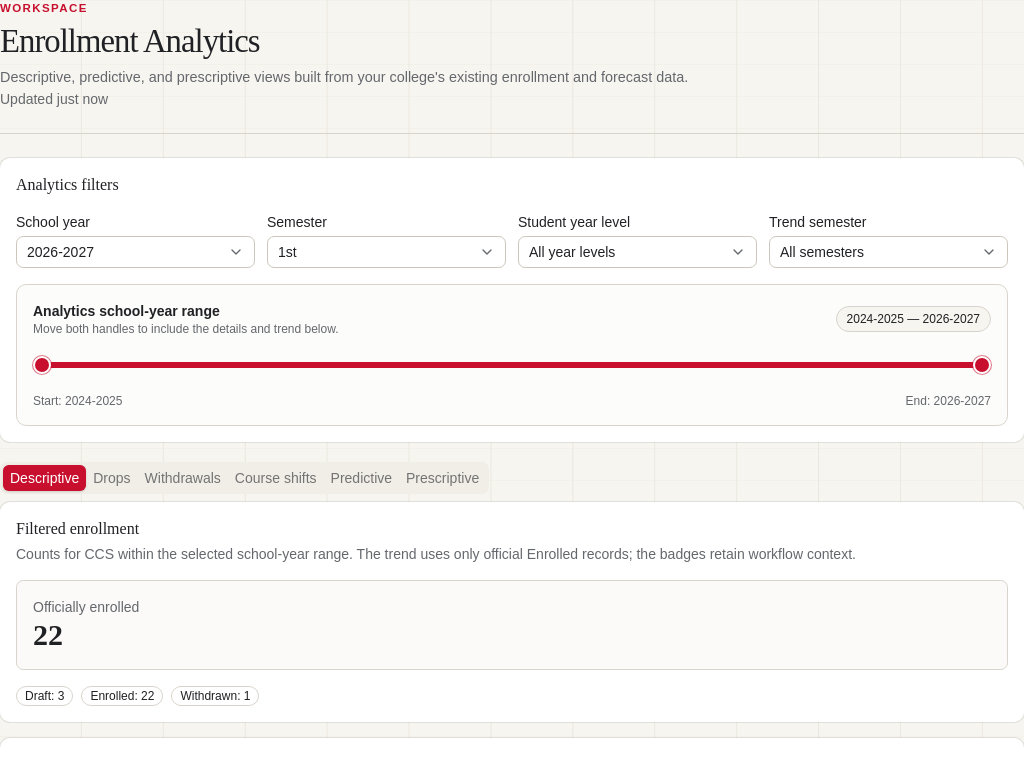
Test: AnalyticsDashboardWorkspace › shows rule-based recommendations on the Prescriptive tab
Expected: the text "Enrolled: 22" is shown, [81,686,164,706]
Step 1. Click the tab "Prescriptive" → (443, 478), box [399,465,486,491]
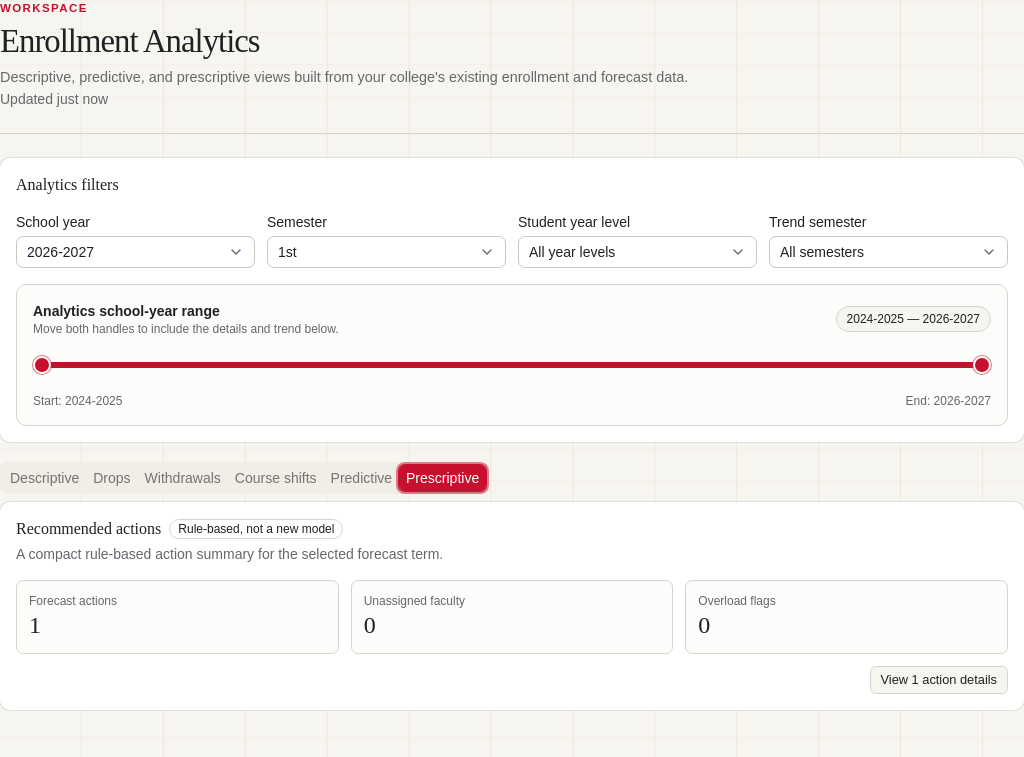
Step 2. Click the button "View 1 action details" → (939, 680), box [870,666,1008,694]
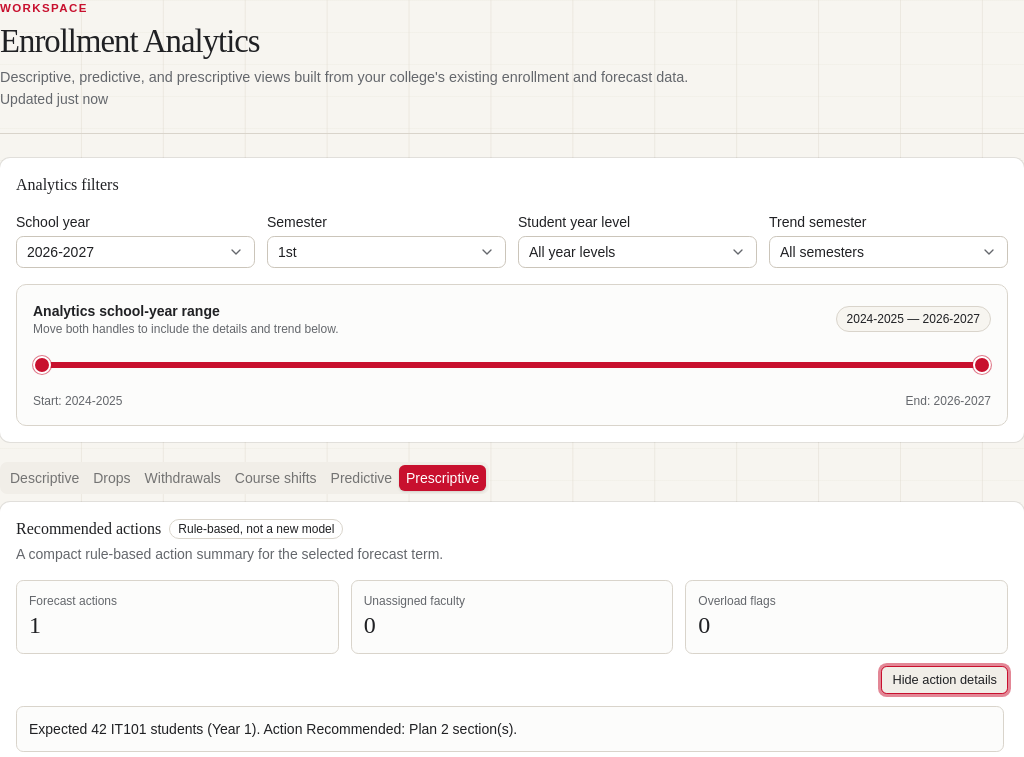
Expected: the text "Rule-based, not a new model" is shown, [169,519,343,539]
Expected: the list item "Expected 42 IT101 students" is shown, [29,721,517,737]
